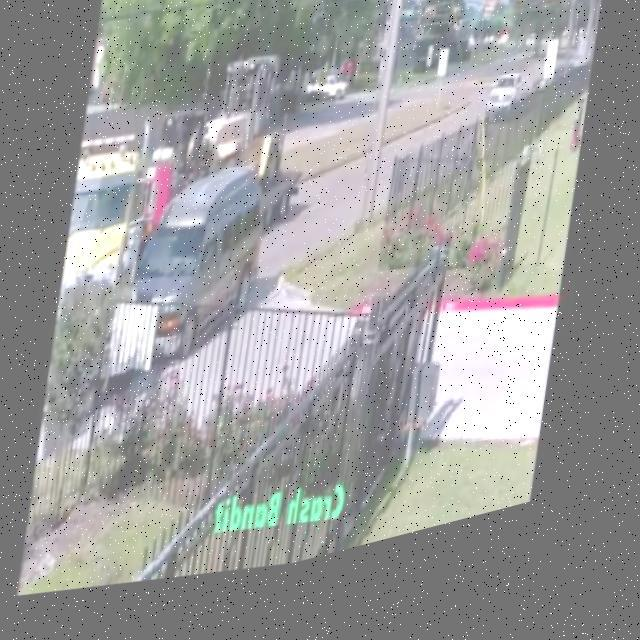Car Accident Detector - v4 Generation1 Exported: (40, 136, 276, 405)
